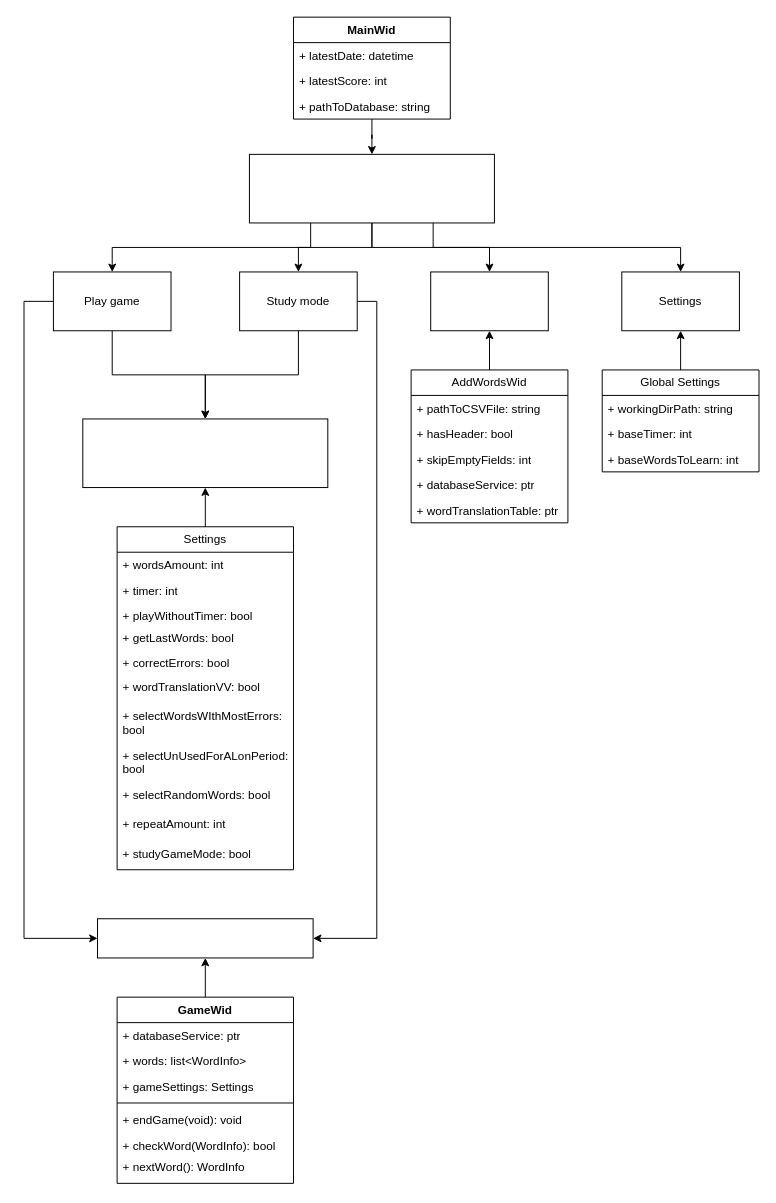
Some shapes in this 776 by 1203 pixel diagram are drawn without their labels. Here are the shapes that lost their labels. From the top down, the centre of each, then its label:
At pixel 371 188: "Main Frame".
At pixel 489 301: "Add new words".
At pixel 205 453: "Settings frame".
At pixel 205 938: "StudyPlay frame".
